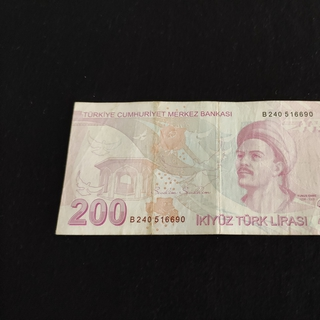200TLBack: (54, 98, 320, 235)
